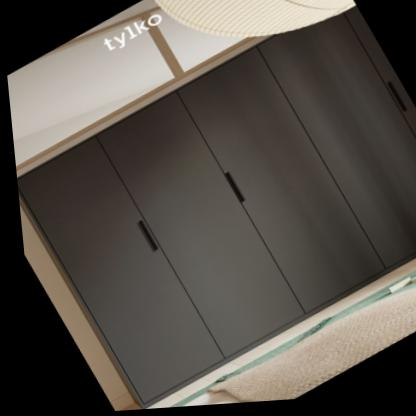Closet: (1, 0, 416, 416)
